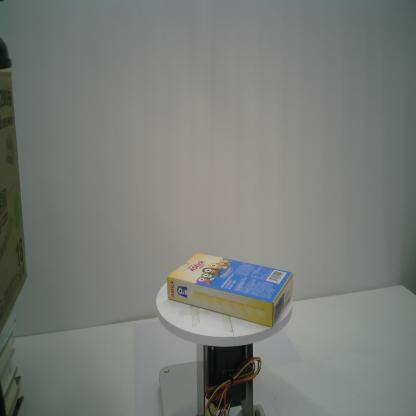Dessert: (165, 251, 295, 329)
